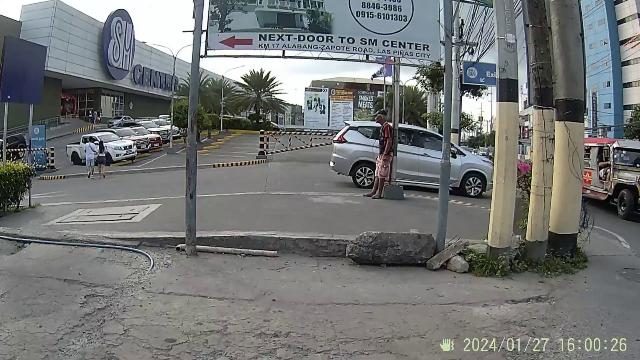potted_plant: (0, 149, 36, 219)
utility_post: (528, 0, 588, 274), (490, 0, 518, 276)
